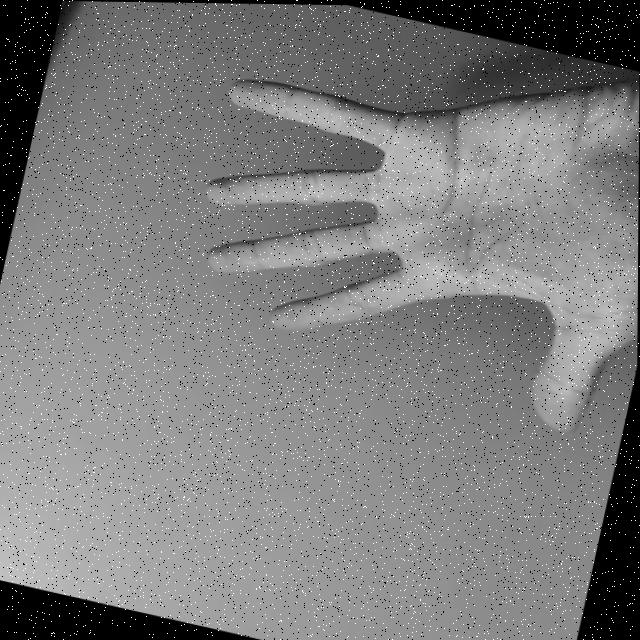hand: (154, 2, 640, 451)
